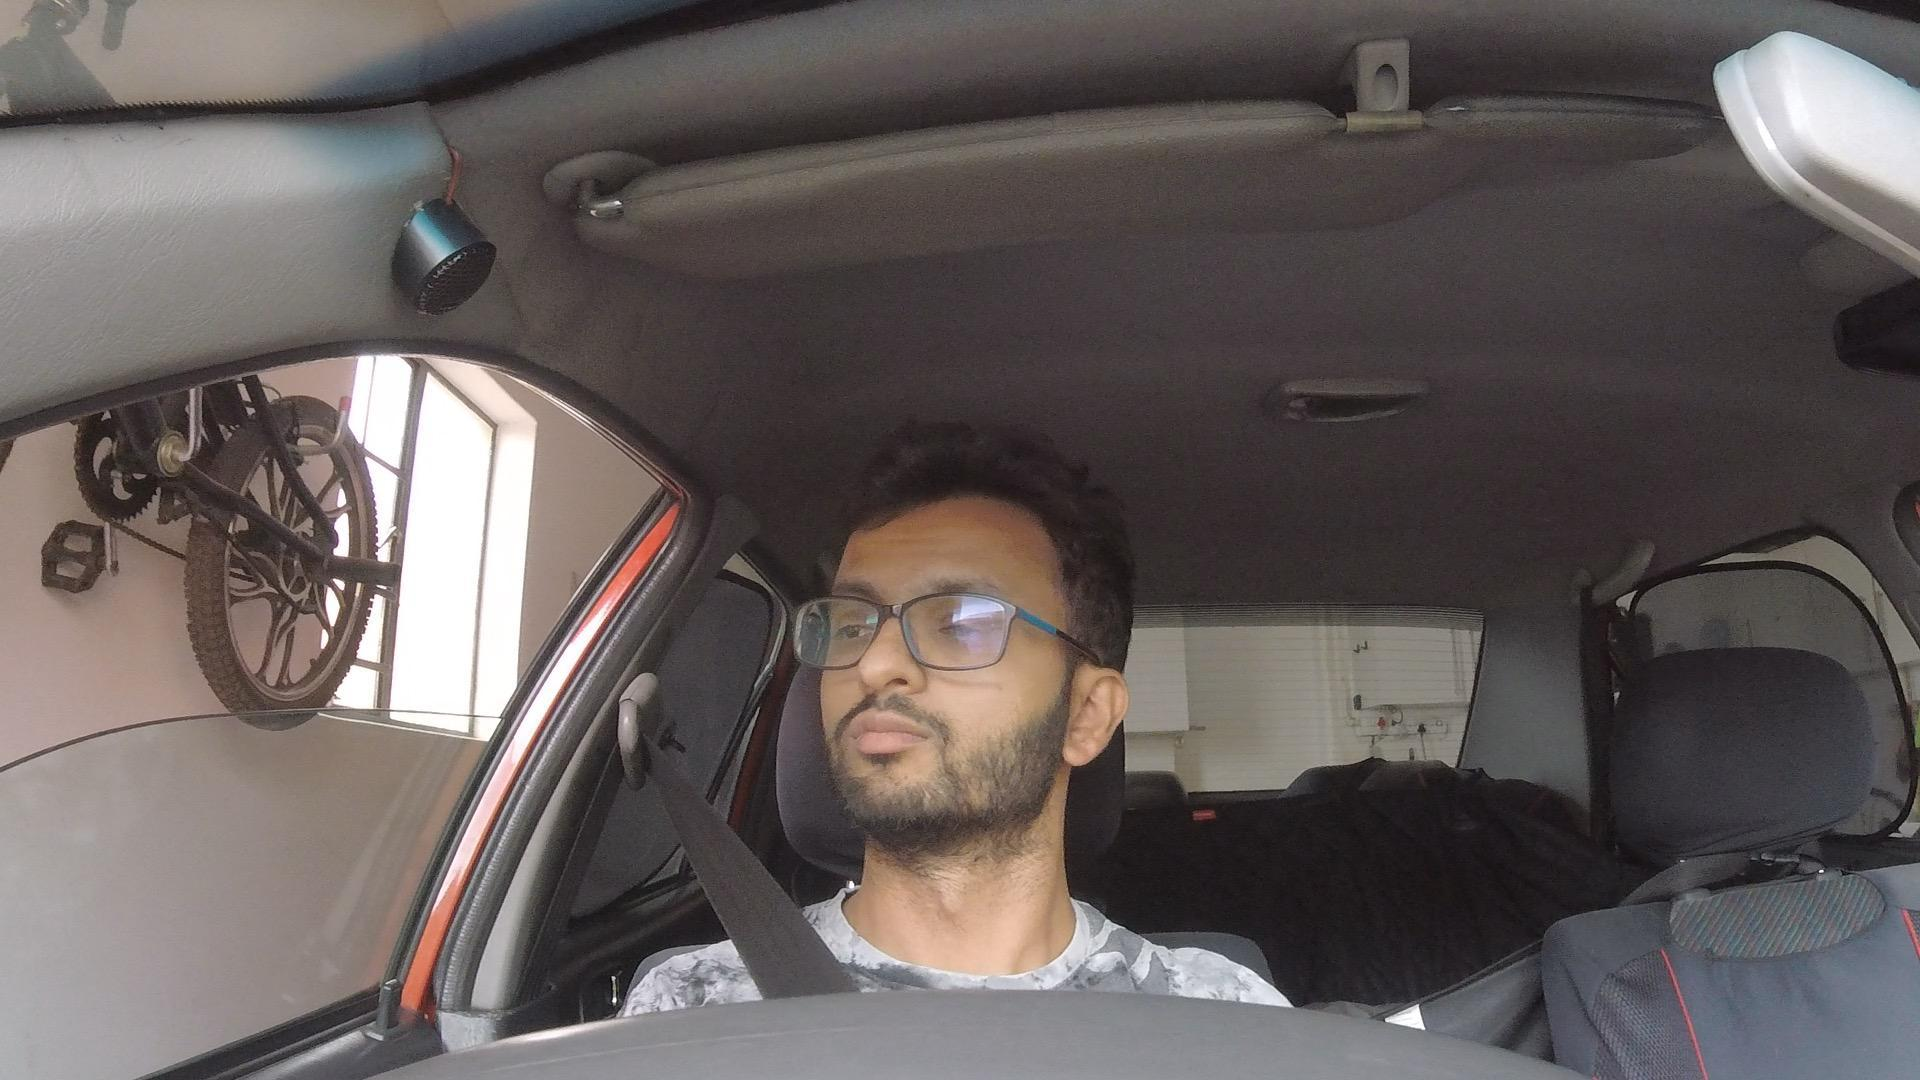Distracted: (567, 394, 1315, 1011)
SafeDriving: (790, 417, 1138, 852)
